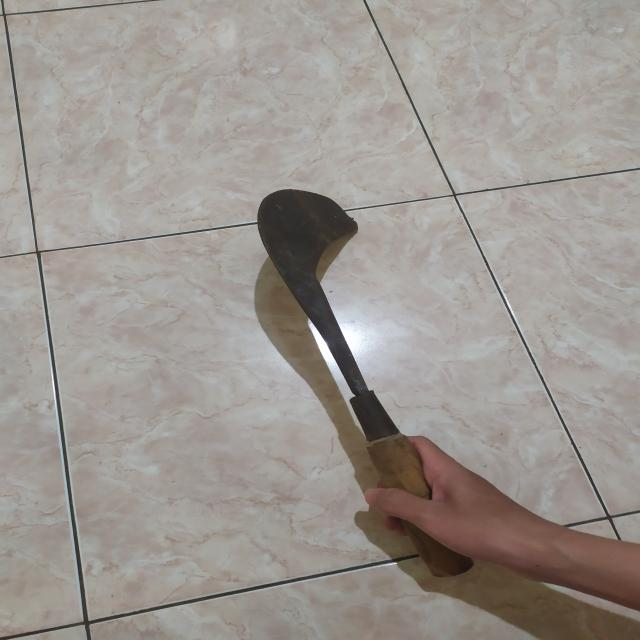Celurit: (259, 187, 477, 577)
